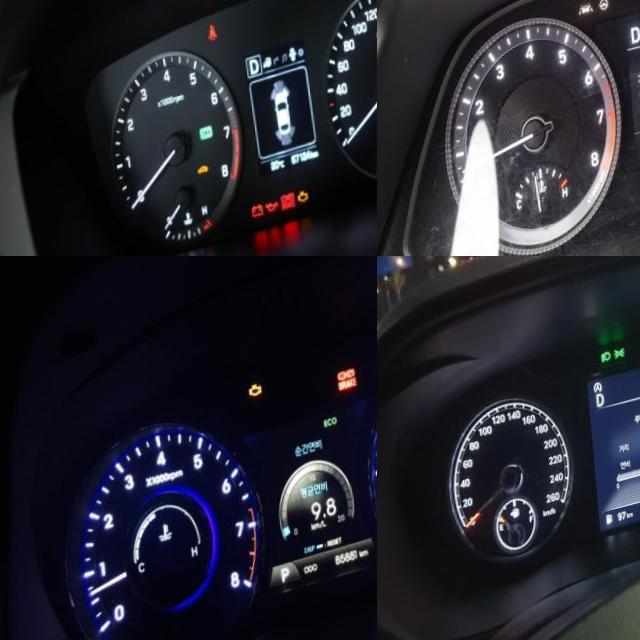LaneCenteringOff: (571, 16, 587, 32)
Low beam: (595, 365, 607, 380)
SideLamp: (608, 364, 620, 377)
